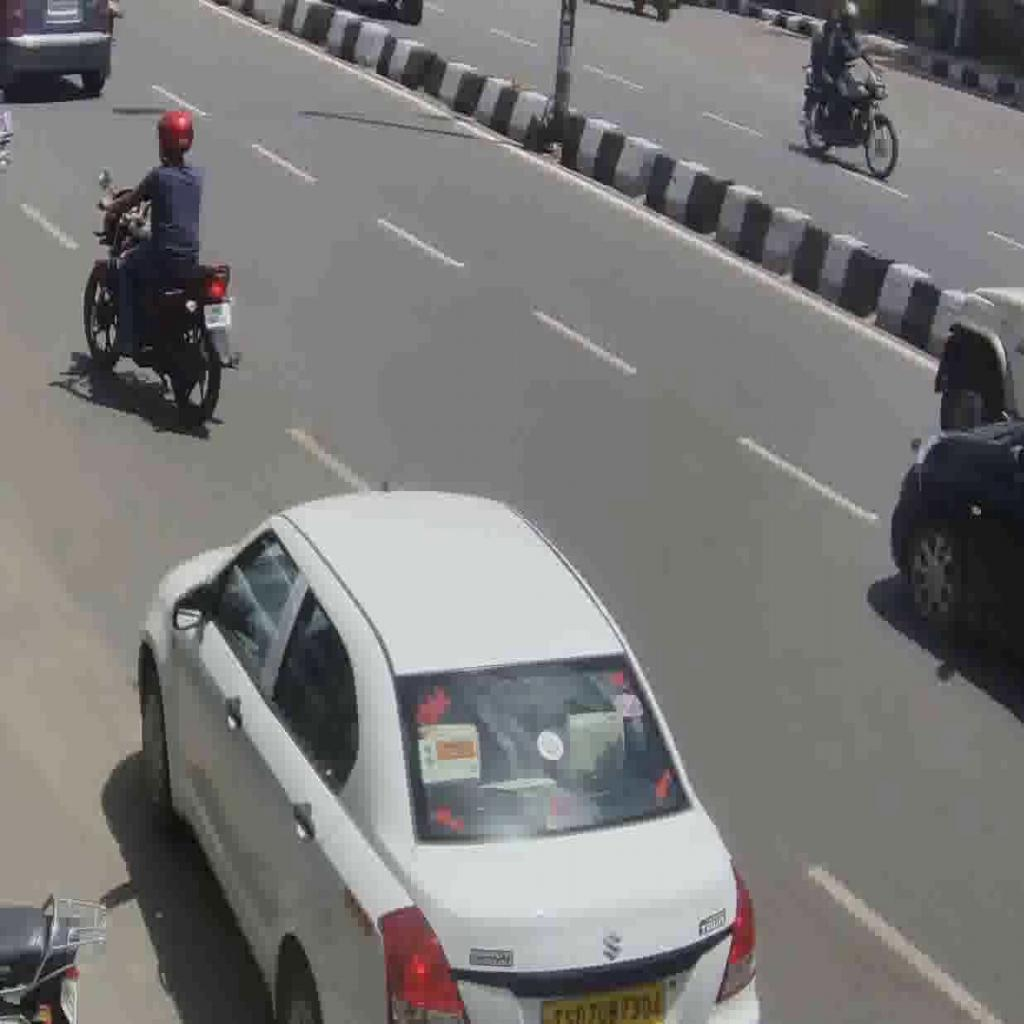helmet: (82, 184, 244, 430)
